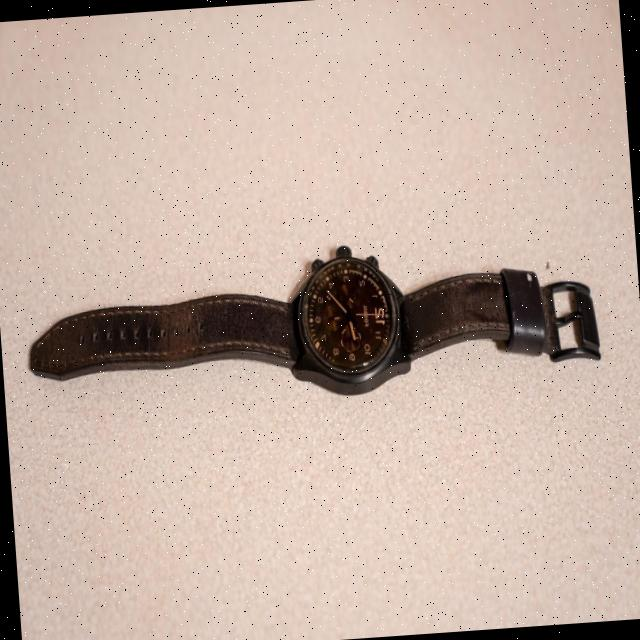Wrist watch: (22, 226, 602, 415)
